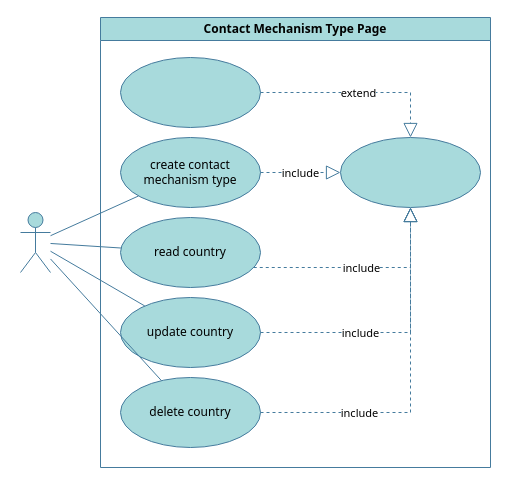
Image size: 508x485. Some labels were removed from this diagram. Each missing label, with the box of its shape:
Admin: (20, 212, 50, 272)
redirect to login page: (120, 56, 260, 128)
verify access token: (340, 136, 480, 208)
